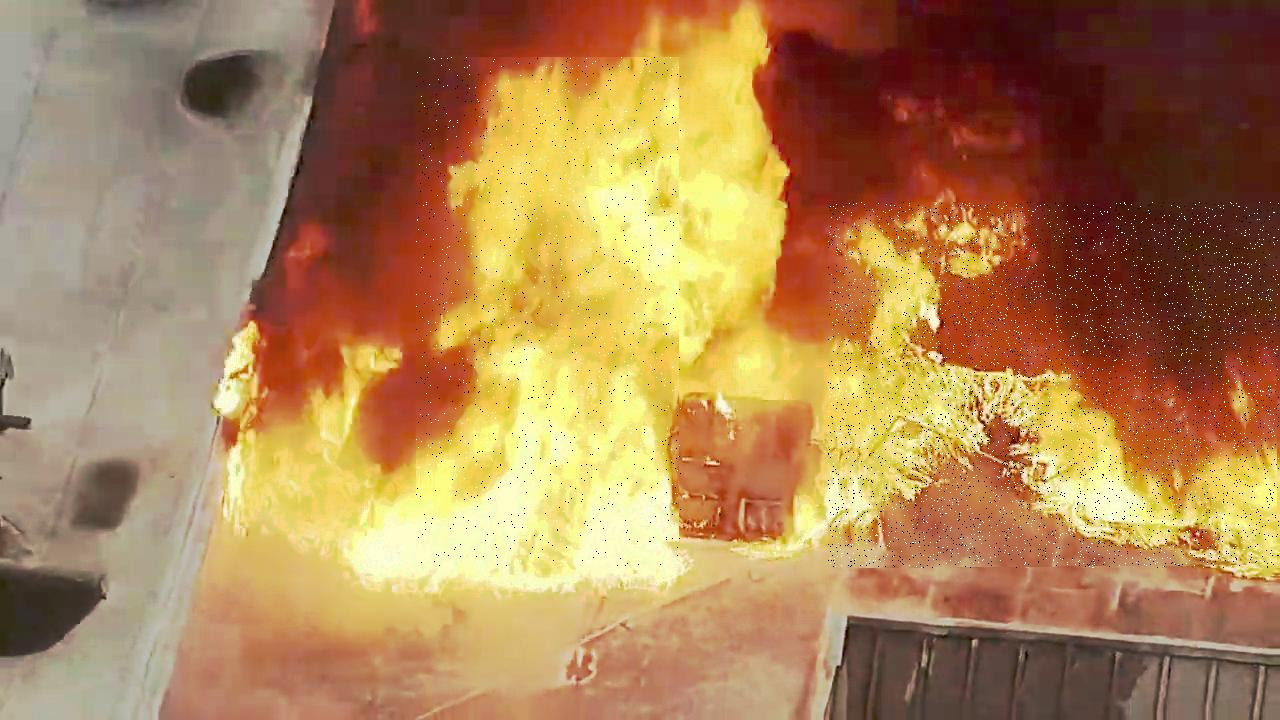fire: (829, 202, 1280, 568), (417, 58, 682, 567)
